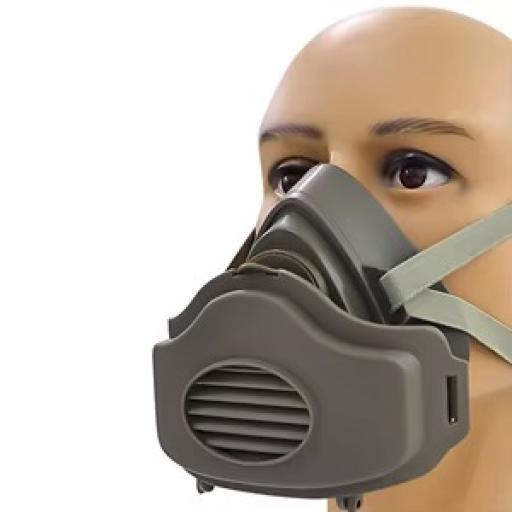mask: (126, 167, 464, 512)
